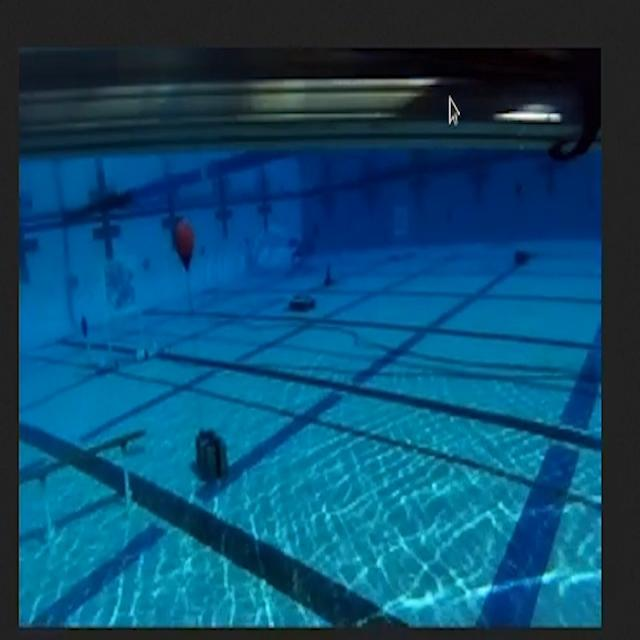Buoy: (165, 217, 200, 277)
